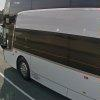Bus: (3, 2, 100, 99)
